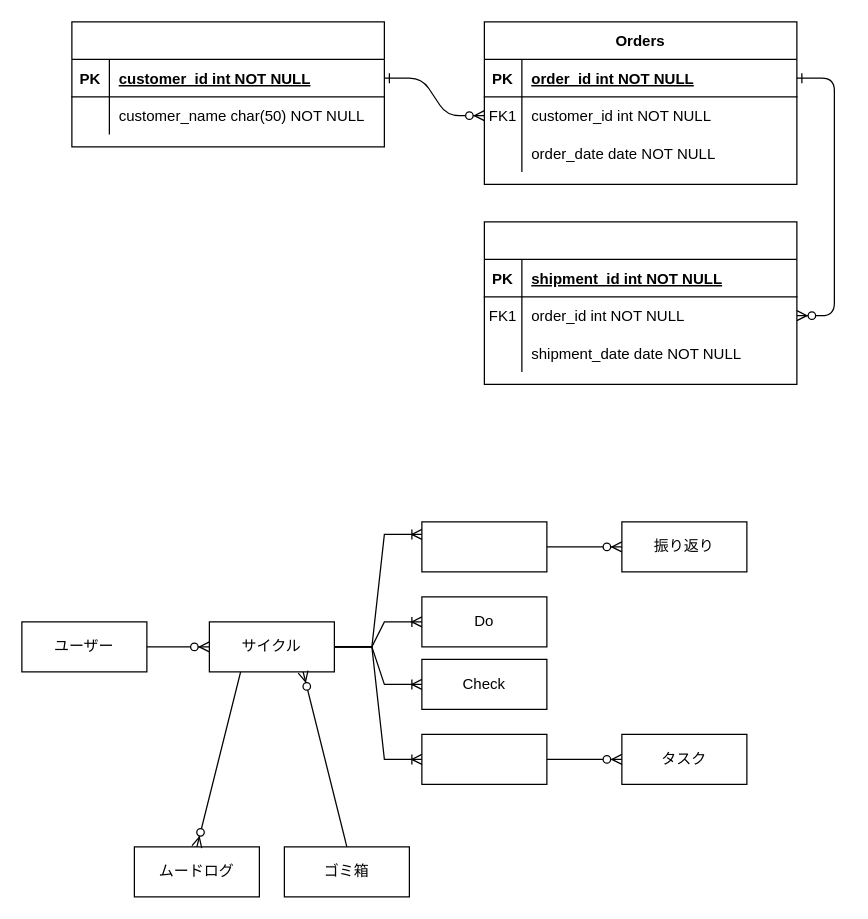
This 868x919 diagram has some shape labels left out. Each missing label, with the box of its shape:
Action: (421, 733, 547, 784)
Customers: (71, 21, 384, 147)
Plan: (421, 521, 547, 572)
Shipments: (483, 221, 797, 384)
